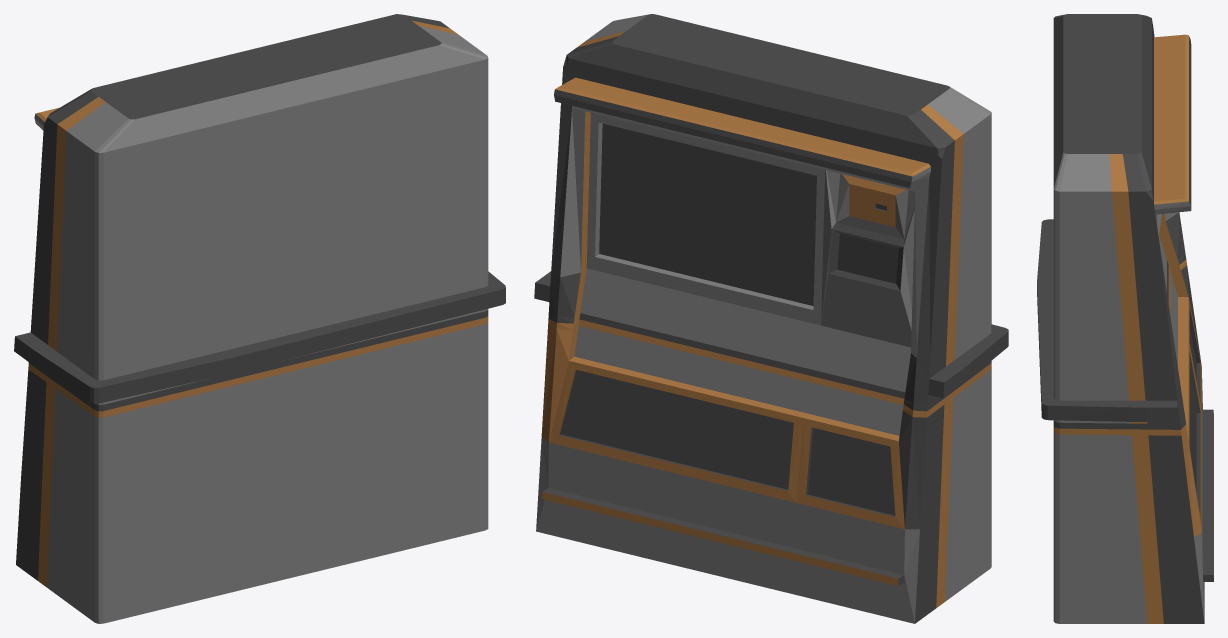
The model's file is SM_Terminal2.fbx.
3 views of the same model, side by side, from view 1: azimuth 30°, elevation 25°; view 2: azimuth 150°, elevation 25°; view 3: azimuth 270°, elevation 25° (orthographic). The views are drawn at different scales.
Visible parts, largest first — view 1: SM_Terminal2; view 2: SM_Terminal2; view 3: SM_Terminal2.
Part boxes in pixels (x1=…): SM_Terminal2: x1=14, y1=14, x2=505, y2=623; SM_Terminal2: x1=534, y1=14, x2=1008, y2=623; SM_Terminal2: x1=1037, y1=14, x2=1213, y2=623.
Size of the model in its own units: 1.19 by 1.32 by 0.4691.
